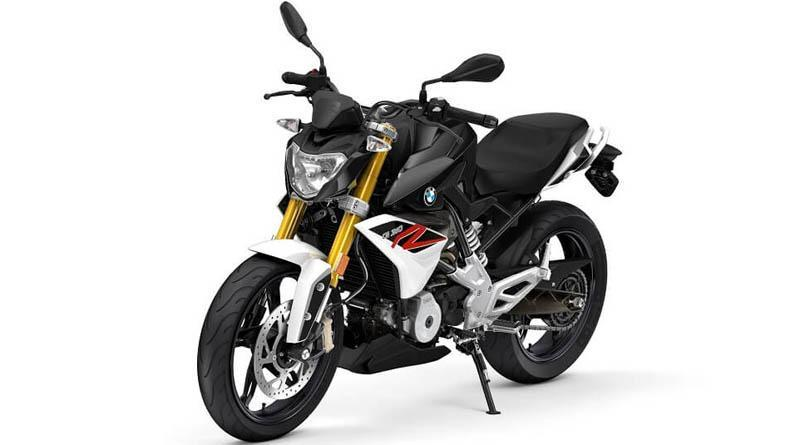motorbike: (196, 2, 622, 445)
